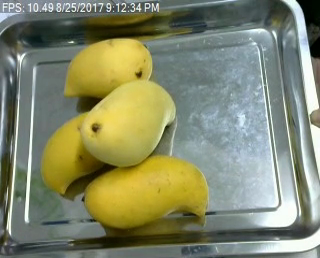Mango: (81, 155, 210, 228), (77, 78, 176, 166), (37, 109, 117, 196), (64, 38, 155, 99)
